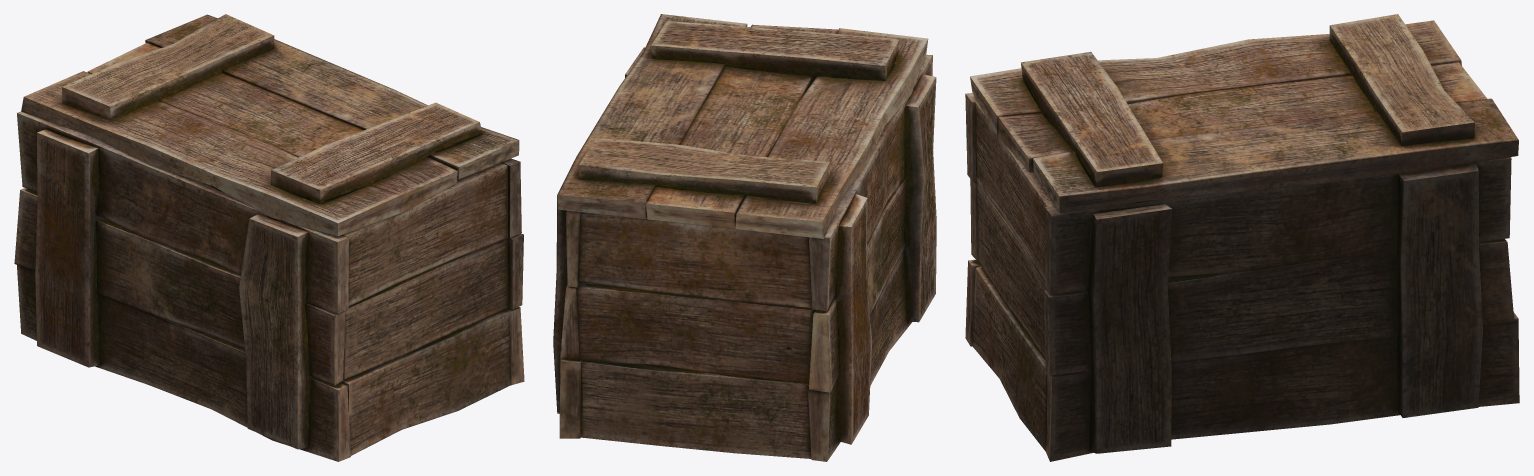
The model's file is littleBox.fbx.
3 views of the same model, side by side, from view 1: azimuth 30°, elevation 25°; view 2: azimuth 150°, elevation 25°; view 3: azimuth 270°, elevation 25° (orthographic). The views are drawn at different scales.
Parts seen in each view (by area): view 1: prim2.001; view 2: prim2.001; view 3: prim2.001.
Boxes of the visible parts, x1,y1,x2,y2 form: prim2.001: [14, 14, 524, 461]; prim2.001: [553, 14, 936, 461]; prim2.001: [965, 14, 1519, 461].
Size of the model in its own units: 68.32 by 49.56 by 86.94.
